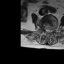CCS_stenosis: (48, 27, 49, 35)
LFS_normal: (52, 26, 54, 33)
LLS_normal: (49, 27, 52, 34)
RFS_normal: (44, 25, 45, 32)
RLS_normal: (45, 27, 48, 33)
